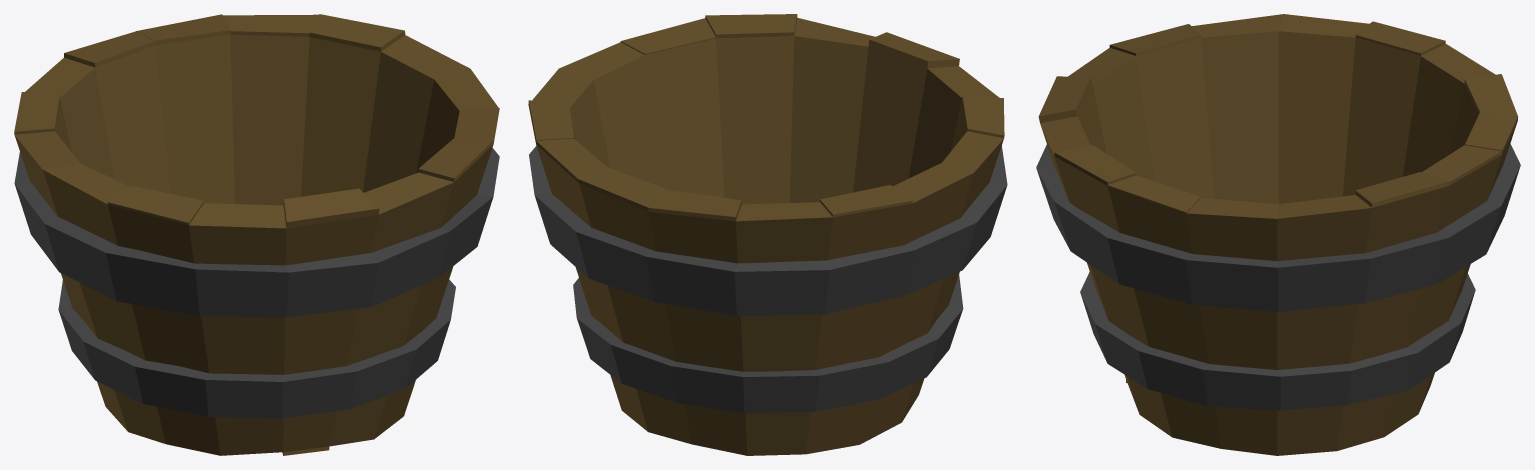
Rendered from barrel_2.fbx.
3 views of the same model, side by side, from view 1: azimuth 30°, elevation 25°; view 2: azimuth 150°, elevation 25°; view 3: azimuth 270°, elevation 25° (orthographic).
Parts seen in each view (by area): view 1: Circle.001; view 2: Circle.001; view 3: Circle.001.
Part boxes in pixels (<box>): Circle.001: <box>14,14,499,455</box>; Circle.001: <box>528,14,1007,455</box>; Circle.001: <box>1036,14,1520,455</box>.
Bounding box in the file's own units: 321 × 207 × 321.
